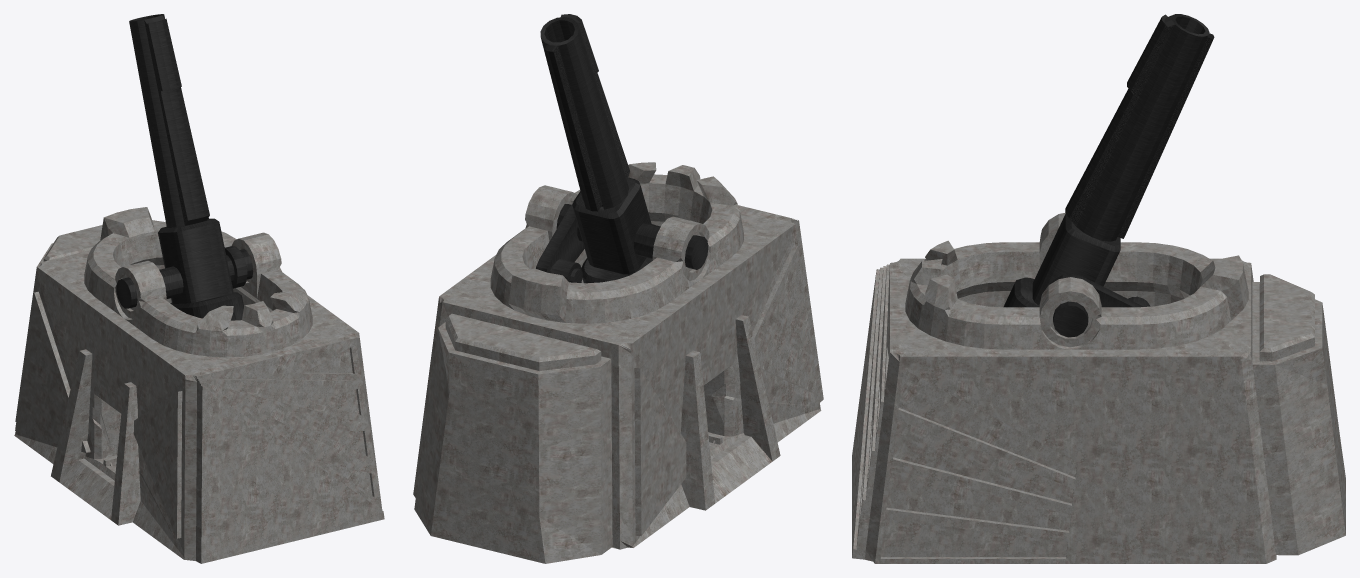
The model's file is gunV2.obj.
3 renders of one model, left to right at view 1: azimuth 30°, elevation 25°; view 2: azimuth 150°, elevation 25°; view 3: azimuth 270°, elevation 25°, orthographic. The views are drawn at different scales.
Parts seen in each view (by area): view 1: Turret.003_Turret.004, Turret.001_Turret.002; view 2: Turret.003_Turret.004, Turret.001_Turret.002; view 3: Turret.003_Turret.004, Turret.001_Turret.002.
Boxes of the visible parts, x1,y1,x2,y2 form: Turret.003_Turret.004: [14, 207, 384, 563]; Turret.001_Turret.002: [116, 14, 253, 320]; Turret.003_Turret.004: [413, 162, 823, 563]; Turret.001_Turret.002: [526, 14, 708, 283]; Turret.003_Turret.004: [852, 213, 1345, 563]; Turret.001_Turret.002: [1003, 14, 1214, 337].
Size of the model in its own units: 64.27 by 122 by 112.
7 materials, 6 textured.
